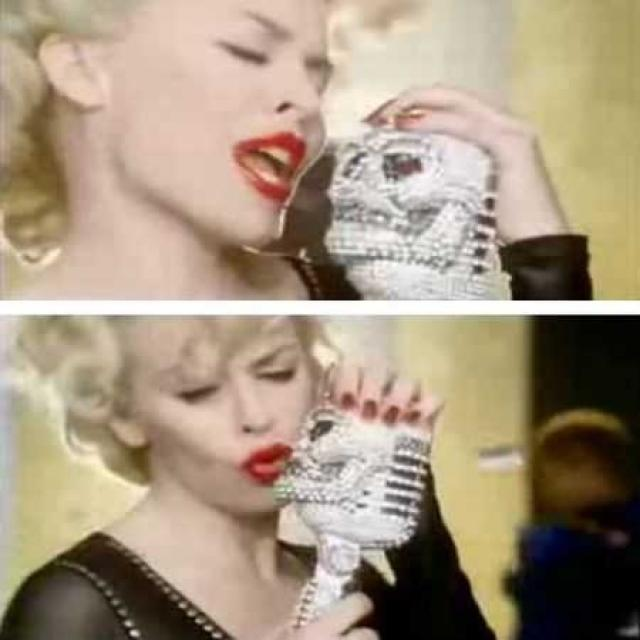microphone: (282, 394, 450, 576), (325, 128, 500, 298)
